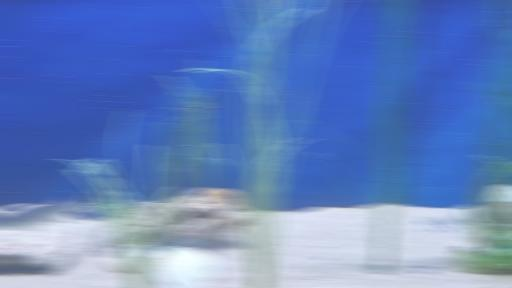Fish: (0, 194, 99, 230)
